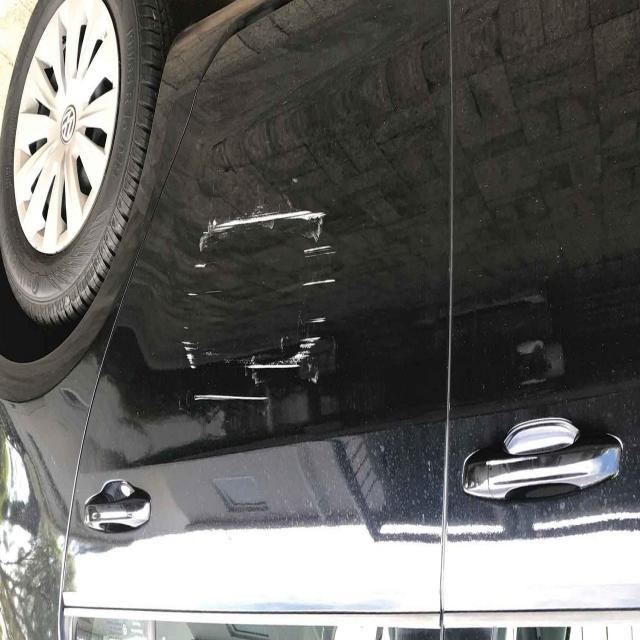scratch: (188, 192, 336, 236), (238, 312, 326, 376), (172, 256, 214, 382), (188, 391, 274, 408), (292, 268, 344, 295)
